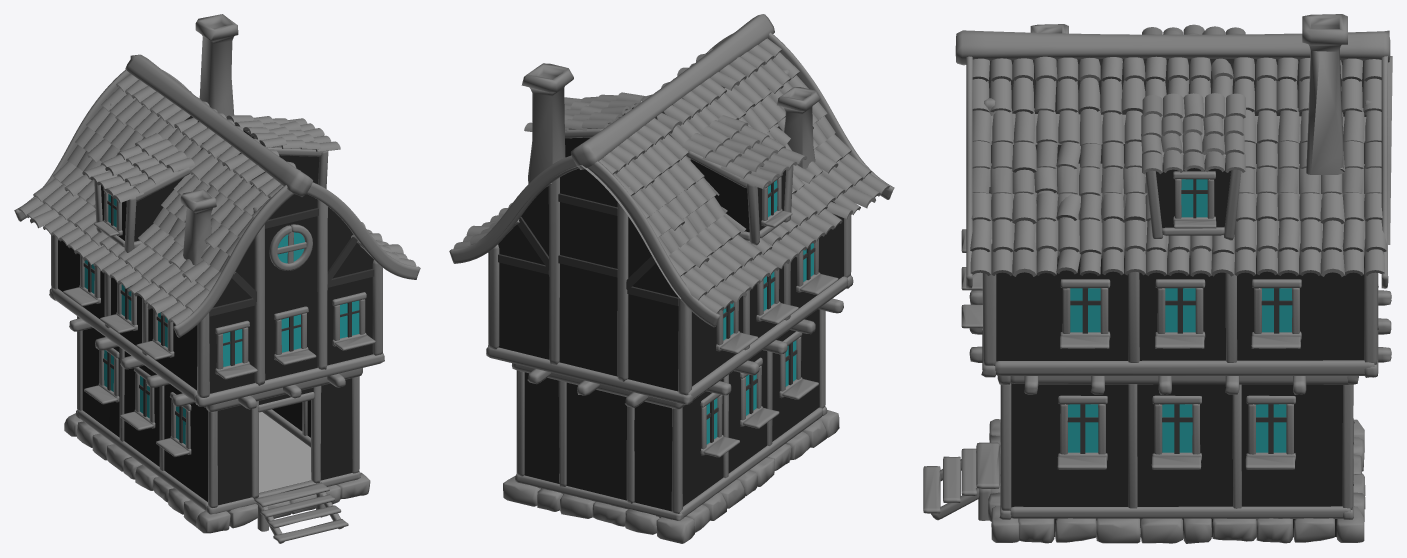
The model's file is SM_house_02.fbx.
3 views of the same model, side by side, from view 1: azimuth 30°, elevation 25°; view 2: azimuth 150°, elevation 25°; view 3: azimuth 270°, elevation 25° (orthographic). The views are drawn at different scales.
Visible parts, largest first — view 1: Object342653; view 2: Object342653; view 3: Object342653.
Part boxes in pixels (box(x1,y1,x2,y2)): Object342653: box(14, 14, 420, 543); Object342653: box(449, 14, 894, 543); Object342653: box(923, 14, 1392, 543).
Bounding box in the file's own units: 236 × 357 × 296.
